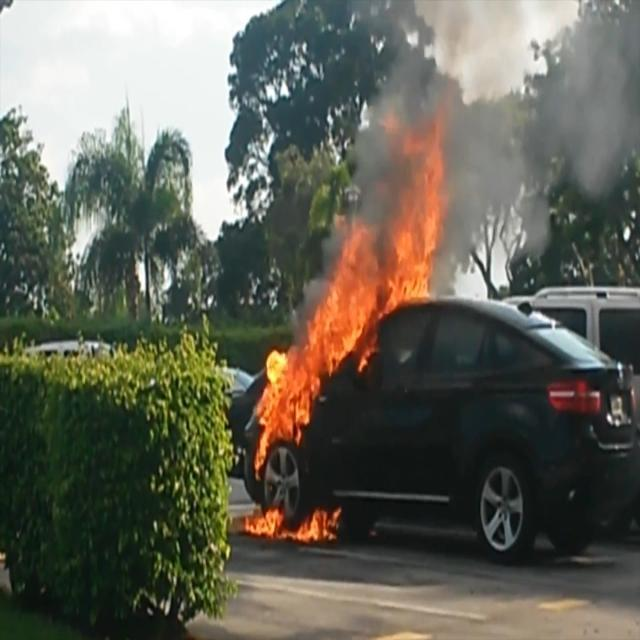fire: (240, 173, 446, 542)
